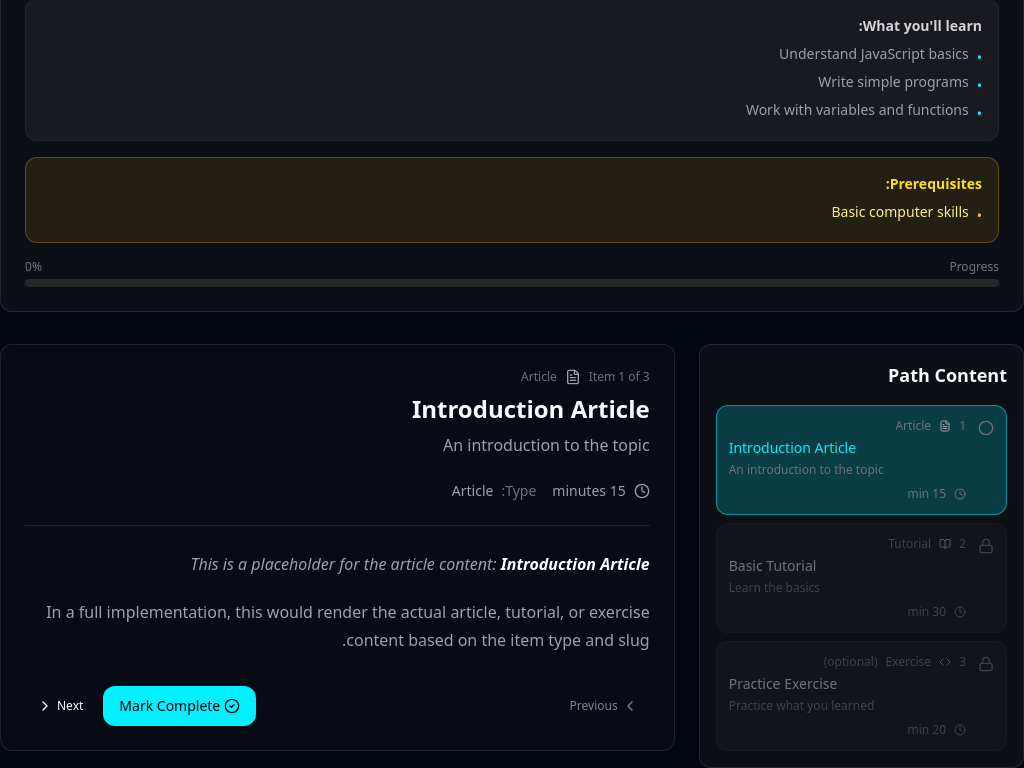
LearningPathViewer › should navigate between items
(page scrolled)
Expected: the text "Item 1 of 3" is shown, [589,369,650,385]
Click the button "Next" at (60, 706), box [25,688,95,724]
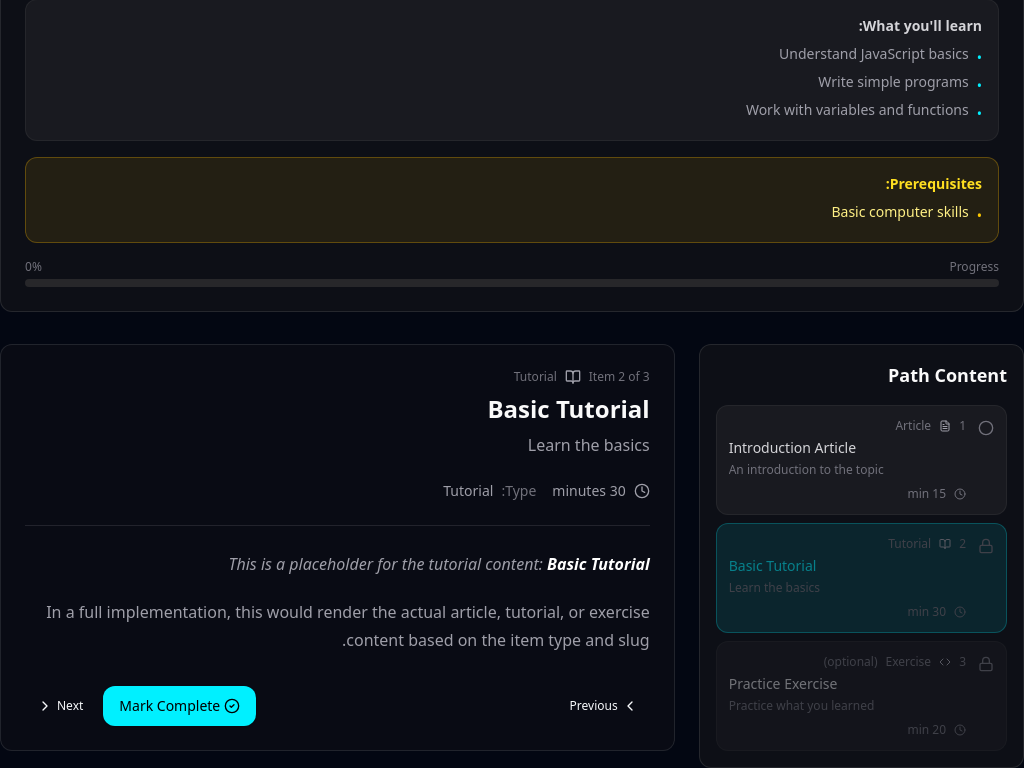
Expected: the text "Item 2 of 3" is shown, [589,369,650,385]
